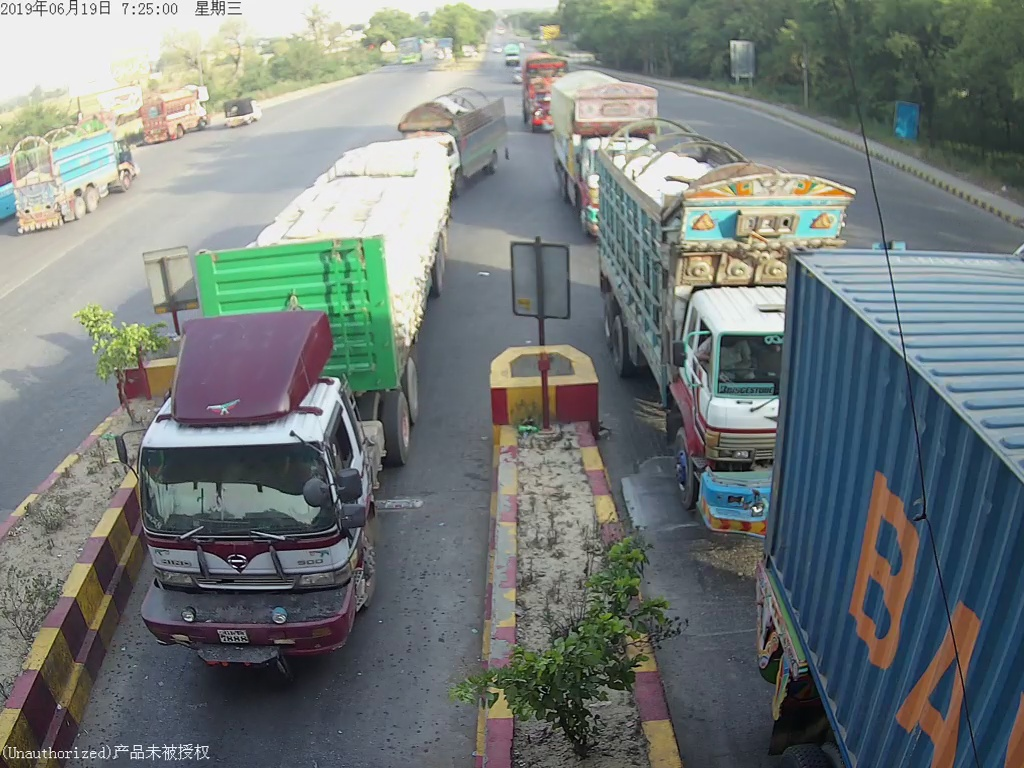Cat-4: (612, 159, 842, 522)
Cat-5: (121, 127, 472, 686)
